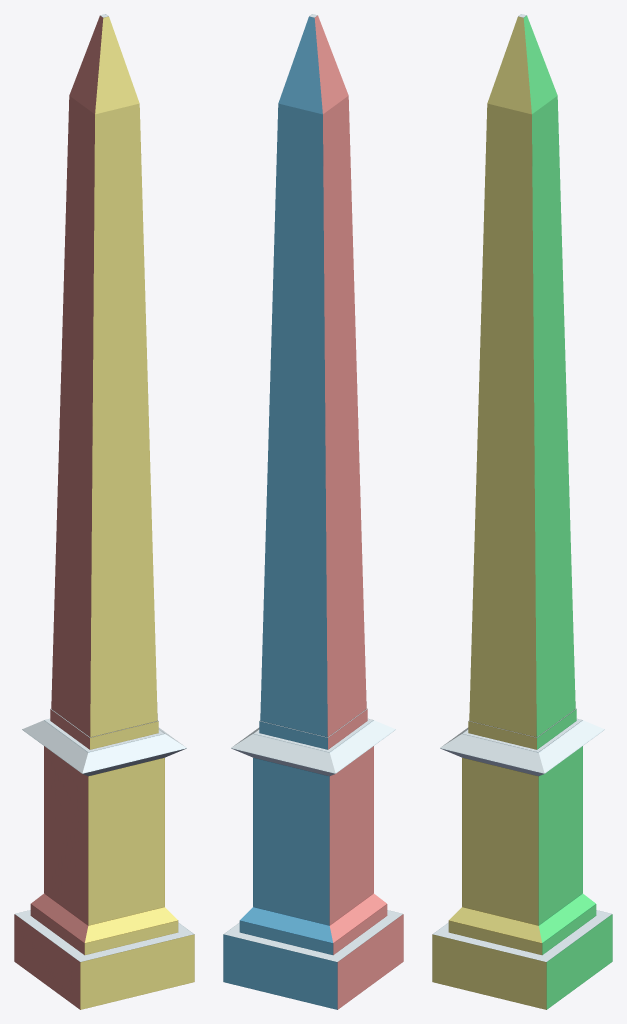
Rendered from obelisk.fbx.
3 views of the same model, side by side, from view 1: azimuth 30°, elevation 25°; view 2: azimuth 150°, elevation 25°; view 3: azimuth 330°, elevation 25° (orthographic).
Parts seen in each view (by area): view 1: cuboid; view 2: cuboid; view 3: cuboid.
Part boxes in pixels (box(x1,y1,x2,y2)): cuboid: box(14, 14, 194, 1009); cuboid: box(223, 14, 403, 1009); cuboid: box(432, 14, 612, 1009).
Bounding box in the file's own units: 125 × 1000 × 125.
Materials: 1 (1 with a texture image).
